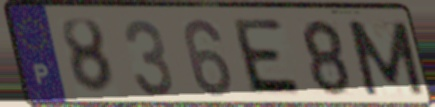3: (122, 17, 175, 99)
6: (180, 16, 236, 100)
8: (61, 16, 115, 99), (300, 18, 353, 99)
E: (231, 16, 306, 99)
M: (342, 18, 429, 99)
